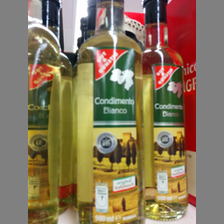vinegar: (75, 1, 142, 224), (140, 1, 193, 224), (28, 1, 59, 223)
